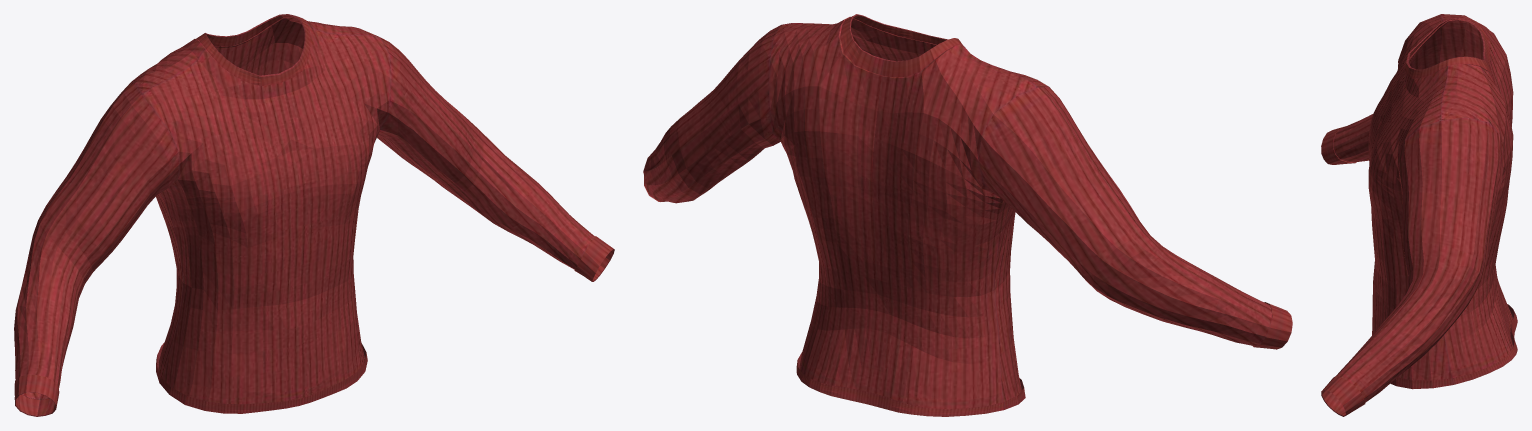
The model's file is mhw_toigo_fisherman_sweater.glb.
3 renders of one model, left to right at view 1: azimuth 30°, elevation 25°; view 2: azimuth 150°, elevation 25°; view 3: azimuth 270°, elevation 25°, orthographic. The views are drawn at different scales.
Parts seen in each view (by area): view 1: mhw_toigo_fisherman_sweater; view 2: mhw_toigo_fisherman_sweater; view 3: mhw_toigo_fisherman_sweater.
Part boxes in pixels (x1=…): mhw_toigo_fisherman_sweater: x1=14, y1=14, x2=614, y2=416; mhw_toigo_fisherman_sweater: x1=643, y1=14, x2=1292, y2=416; mhw_toigo_fisherman_sweater: x1=1321, y1=14, x2=1517, y2=416.
Bounding box in the file's own units: 1.1 × 0.603 × 0.3391.
1 material, 1 textured.
